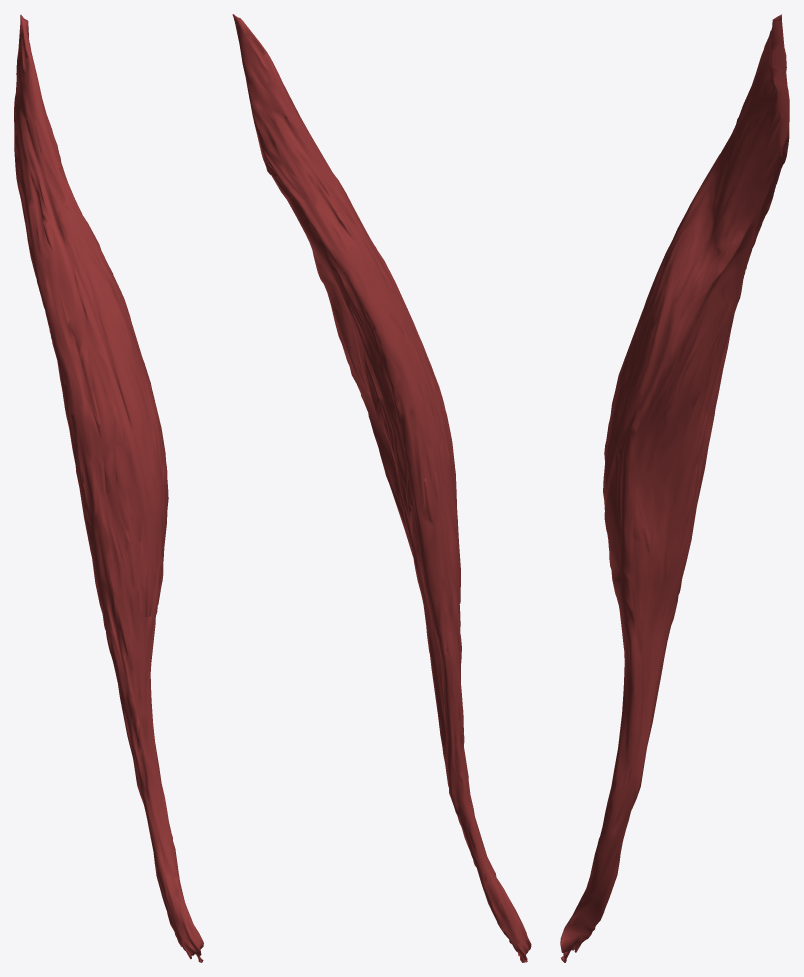
The model's file is brachioradialis-muscle-r.glb.
3 views of the same model, side by side, from view 1: azimuth 90°, elevation 25°; view 2: azimuth 150°, elevation 25°; view 3: azimuth 270°, elevation 25° (orthographic). The views are drawn at different scales.
Visible parts, largest first — view 1: Brachioradialis muscle.r; view 2: Brachioradialis muscle.r; view 3: Brachioradialis muscle.r.
Part boxes in pixels (bbox=[...]): Brachioradialis muscle.r: bbox=[14, 14, 203, 962]; Brachioradialis muscle.r: bbox=[232, 14, 531, 962]; Brachioradialis muscle.r: bbox=[560, 14, 789, 962].
Size of the model in its own units: 0.0748 by 0.3491 by 0.0693.
